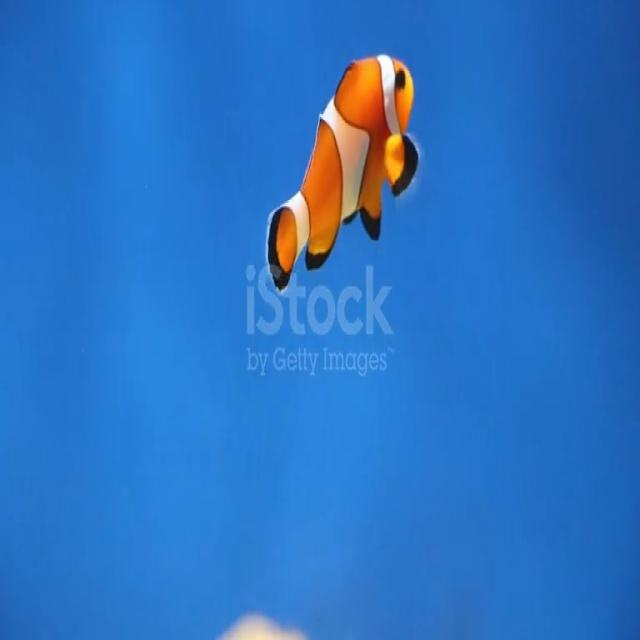fish: (266, 44, 423, 302)
